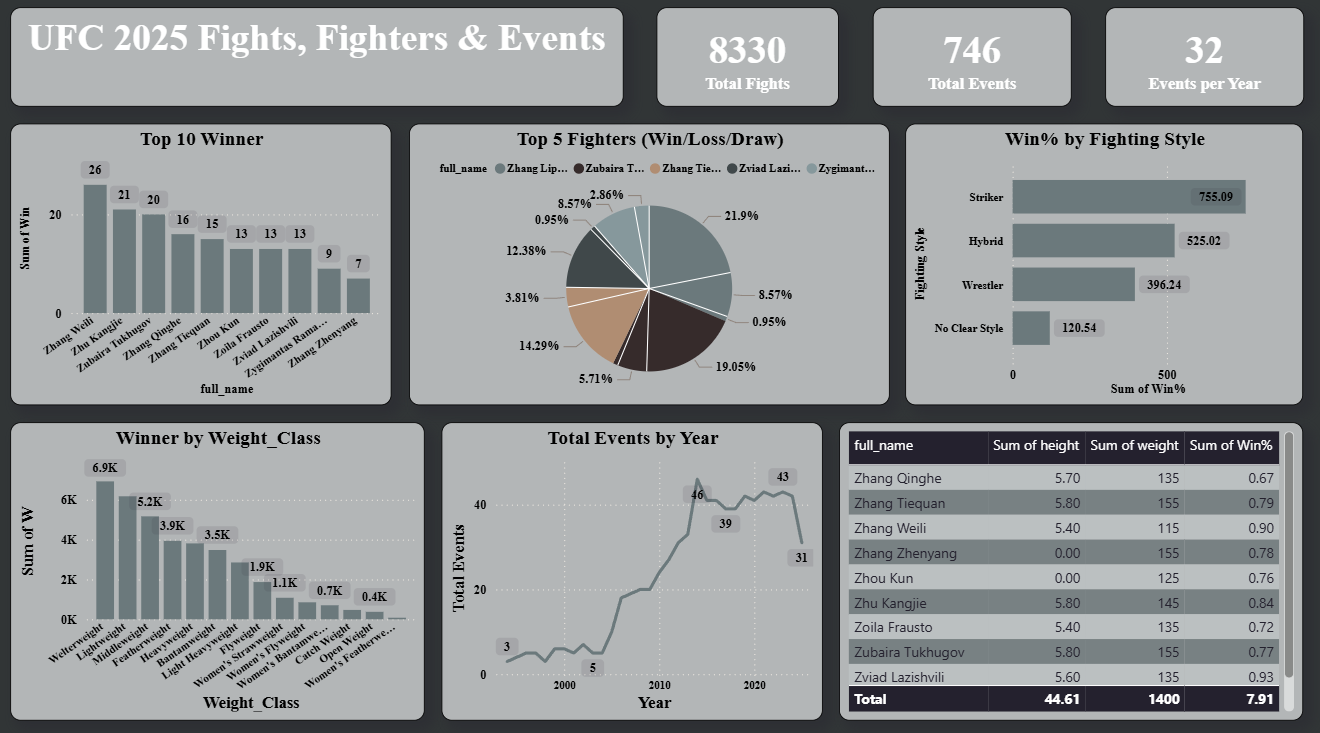

The dashboard page shown, as its layout file describes it:
{"tool":"powerbi","page":{"name":"Page 1","canvas":[1280,720],"ordinal":0},"visuals":[{"type":"columnChart","title":"Top 10 Winner","fields":{"Category":["Fighters.full_name"],"Y":["Fighters.W"]},"box":[16,128,368,272],"z":0},{"type":"pieChart","title":"Top 5 Fighters (Win/Loss/Draw)","fields":{"Category":["Fighters Stats.full_name"],"Y":["Fighters Stats.W","Fighters Stats.L","Fighters Stats.D"]},"box":[400,128,464,272],"z":1000},{"type":"lineChart","fields":{"Y":["Measure.Total Events"],"Category":["Events.Date.Variation.Date Hierarchy.Year"]},"box":[432,416,368,288],"z":2000},{"type":"clusteredColumnChart","title":"Winner by Weight_Class","fields":{"Category":["Fighters Stats.Weight_Class"],"Y":["Fighters Stats.W"]},"box":[16,416,400,288],"z":3000},{"type":"barChart","title":"Win% by Fighting Style","fields":{"Y":["Fighters.Win%"],"Category":["Fighters Stats.Fighting Style"]},"box":[880,128,384,272],"z":4000},{"type":"tableEx","fields":{"Values":["Fighters.full_name","Fighters.height","Fighters.weight","Fighters.Win%"]},"box":[816,416,448,288],"z":5000},{"type":"textbox","box":[16,16,592,96],"z":6000},{"type":"card","fields":{"Values":["Measure.Total Fights"]},"box":[640,16,176,96],"z":7000},{"type":"card","fields":{"Values":["Measure.Total Events"]},"box":[848,16,192,96],"z":8000},{"type":"card","fields":{"Values":["Measure.Events per Year"]},"box":[1072,16,192,96],"z":9000}]}

Visuals, with their boxes in screenshot pixels (x1, y1, x2, y2), scaled from the page's 1280x720 canvas onto the 1320x733 screenshot:
"Top 10 Winner" columnChart: (x1=16, y1=130, x2=396, y2=407)
"Top 5 Fighters (Win/Loss/Draw)" pieChart: (x1=412, y1=130, x2=891, y2=407)
lineChart - Measure.Total Events x Events.Date.Variation.Date Hierarchy.Year: (x1=446, y1=424, x2=825, y2=717)
"Winner by Weight_Class" clusteredColumnChart: (x1=16, y1=424, x2=429, y2=717)
"Win% by Fighting Style" barChart: (x1=908, y1=130, x2=1304, y2=407)
tableEx - Fighters.full_name x Fighters.height: (x1=842, y1=424, x2=1304, y2=717)
textbox: (x1=16, y1=16, x2=627, y2=114)
card - Measure.Total Fights: (x1=660, y1=16, x2=842, y2=114)
card - Measure.Total Events: (x1=874, y1=16, x2=1072, y2=114)
card - Measure.Events per Year: (x1=1106, y1=16, x2=1304, y2=114)
